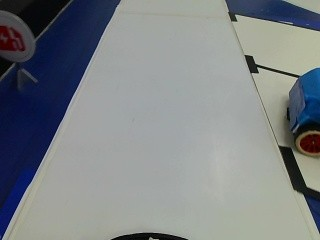battery: (0, 15, 36, 60)
car: (288, 69, 318, 157)
